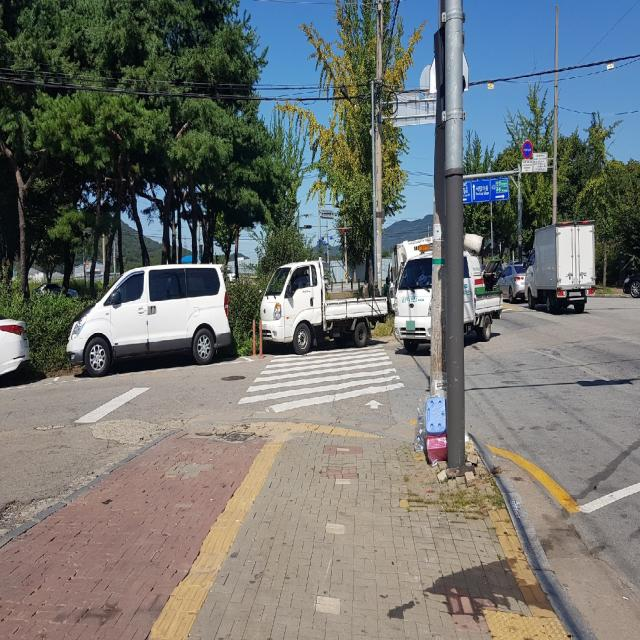횡단보도: (237, 344, 406, 415)
